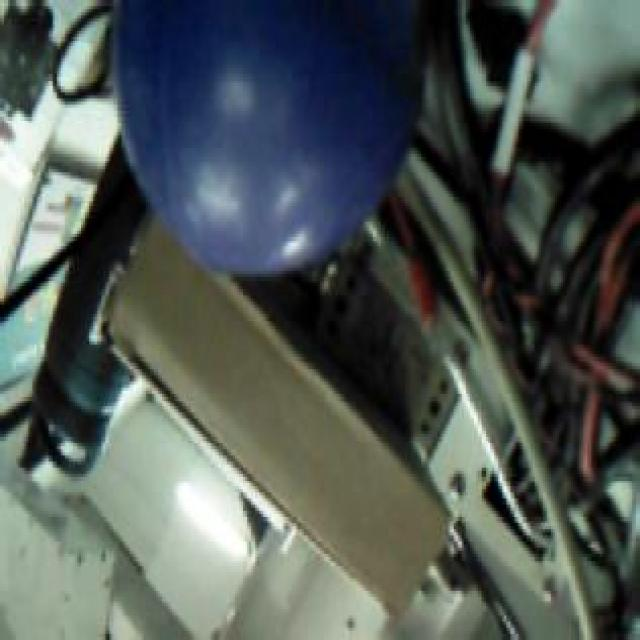BallPurple: (106, 0, 426, 274)
